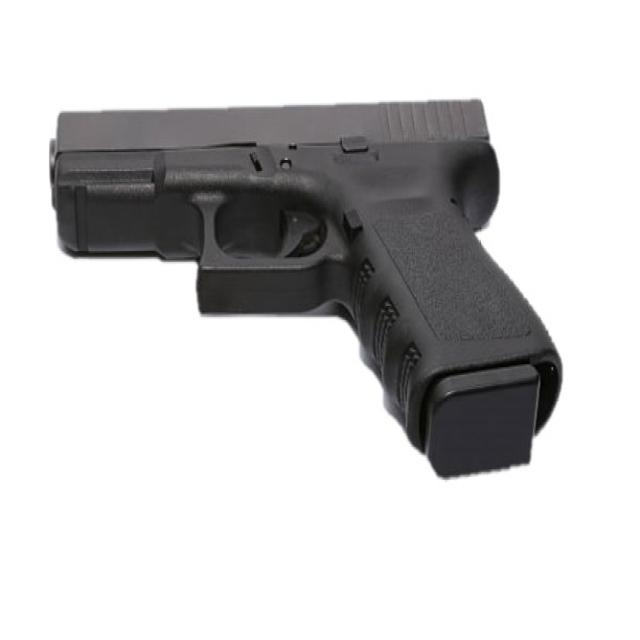pistol: (49, 96, 569, 485)
